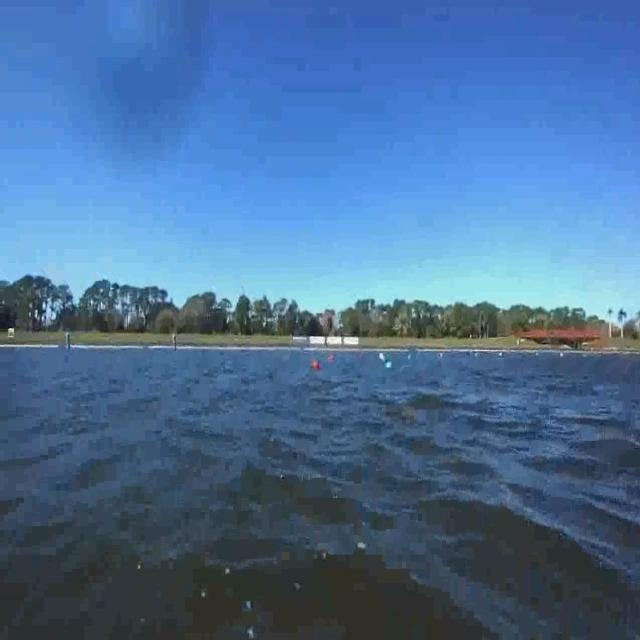red-buoy: (312, 360, 317, 369)
